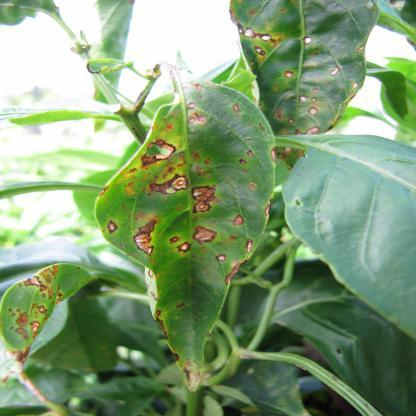Bell_pepper leaf: (92, 64, 278, 400), (228, 0, 382, 170), (0, 260, 98, 381)
